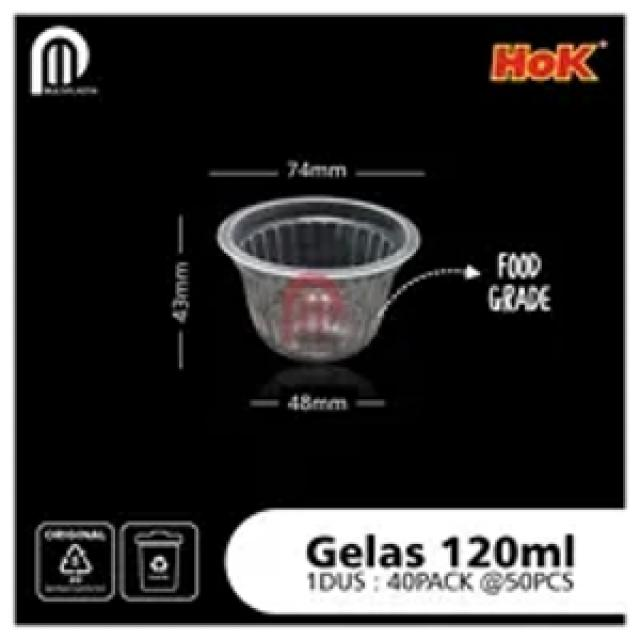plastic cup: (211, 188, 427, 369)
